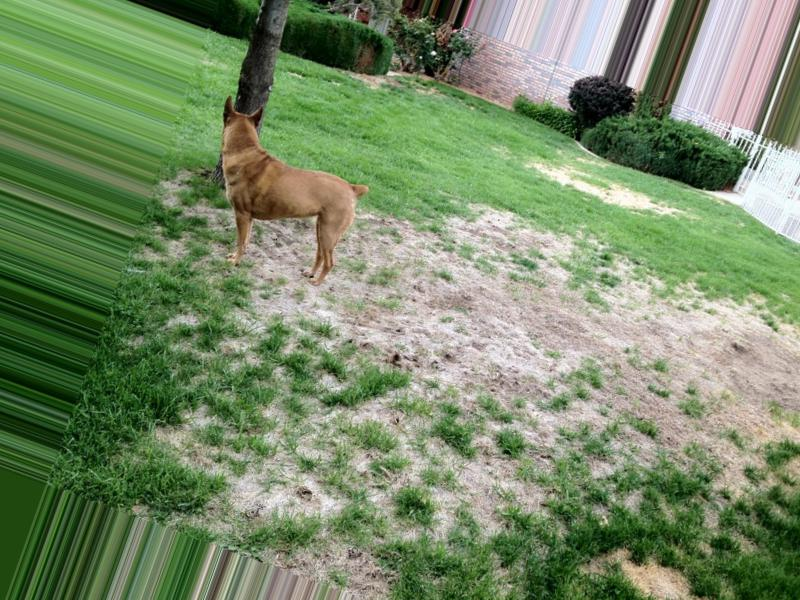patch: (428, 258, 510, 338), (470, 400, 525, 508), (307, 316, 392, 380), (251, 428, 321, 500), (675, 322, 735, 406), (585, 176, 666, 234), (577, 332, 636, 408), (746, 334, 800, 410), (393, 431, 447, 490), (551, 281, 608, 320), (536, 158, 580, 199), (517, 323, 539, 374)
